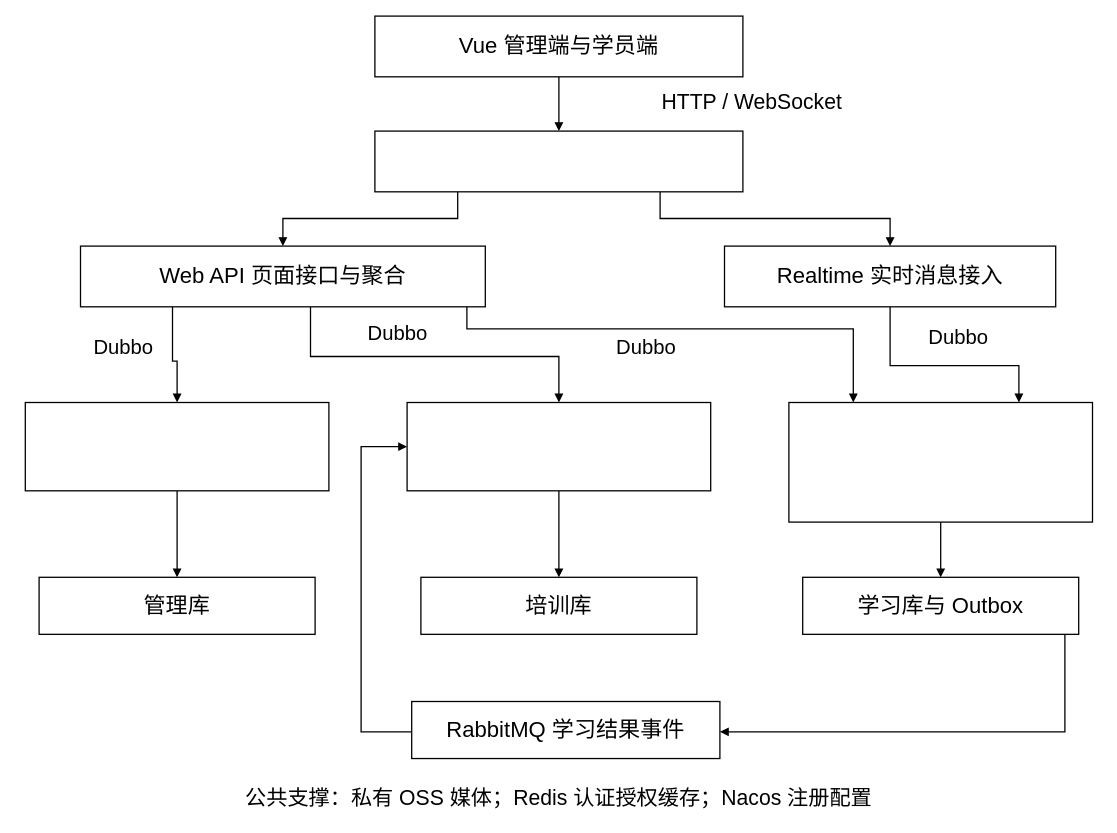
This 1117x833 diagram has some shape labels left out. Here are the shapes that lost their labels. From the top down, the centre of each, then its label:
At point 558,161: "Gateway 统一入口".
At point 176,446: "Admin 管理服务 组织、人员、权限、车辆".
At point 558,446: "Training 培训服务 课程、计划、考试".
At point 940,461: "Learning 学习服务 会话、学时、抽验 内嵌人脸适配器".
